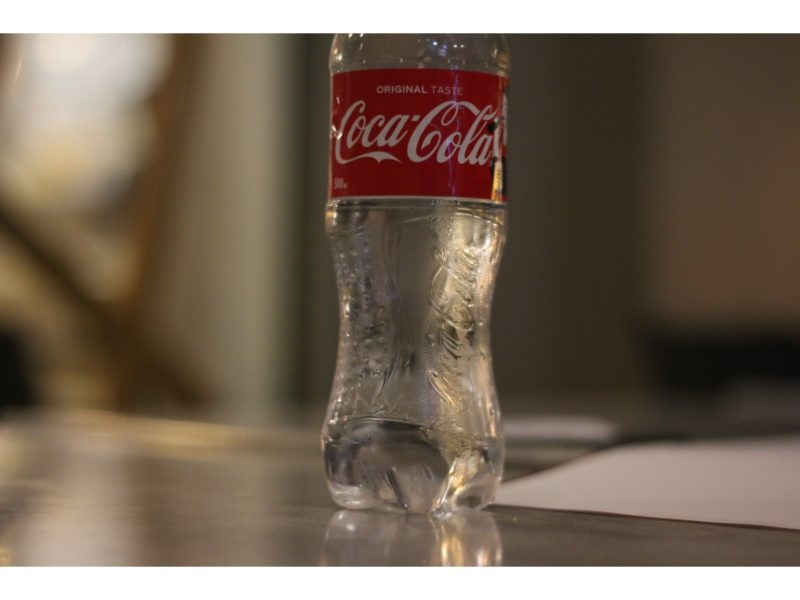PET #1: (322, 38, 509, 519)
